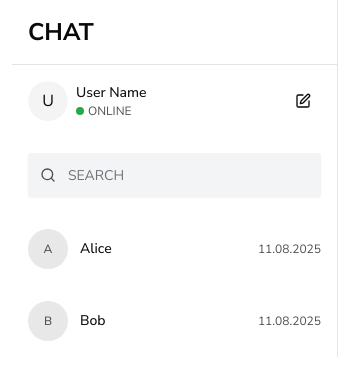
ChatSidebar › shows NOTHING_FOUND when no contacts match
Type "Nonexistent" into the field with placeholder "SEARCH". click: (174, 175)
box: [28, 153, 321, 197]
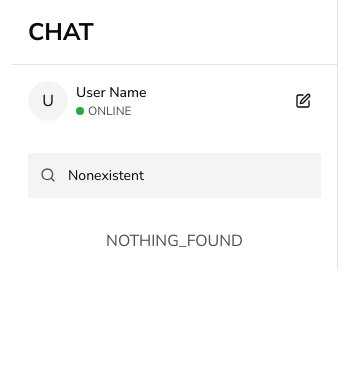
Check: the text "NOTHING_FOUND" is shown, box [106, 229, 243, 253]
